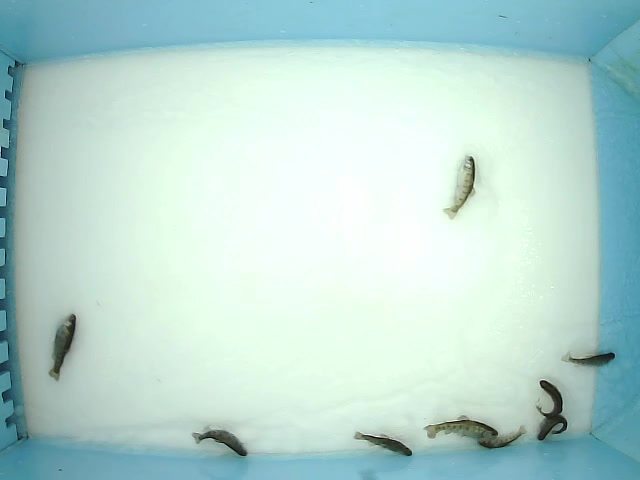fish: (440, 153, 481, 222), (47, 312, 78, 383), (420, 414, 499, 440), (190, 426, 249, 458), (352, 429, 414, 457), (477, 424, 530, 449), (560, 349, 617, 369), (535, 378, 563, 418), (537, 416, 568, 442)
